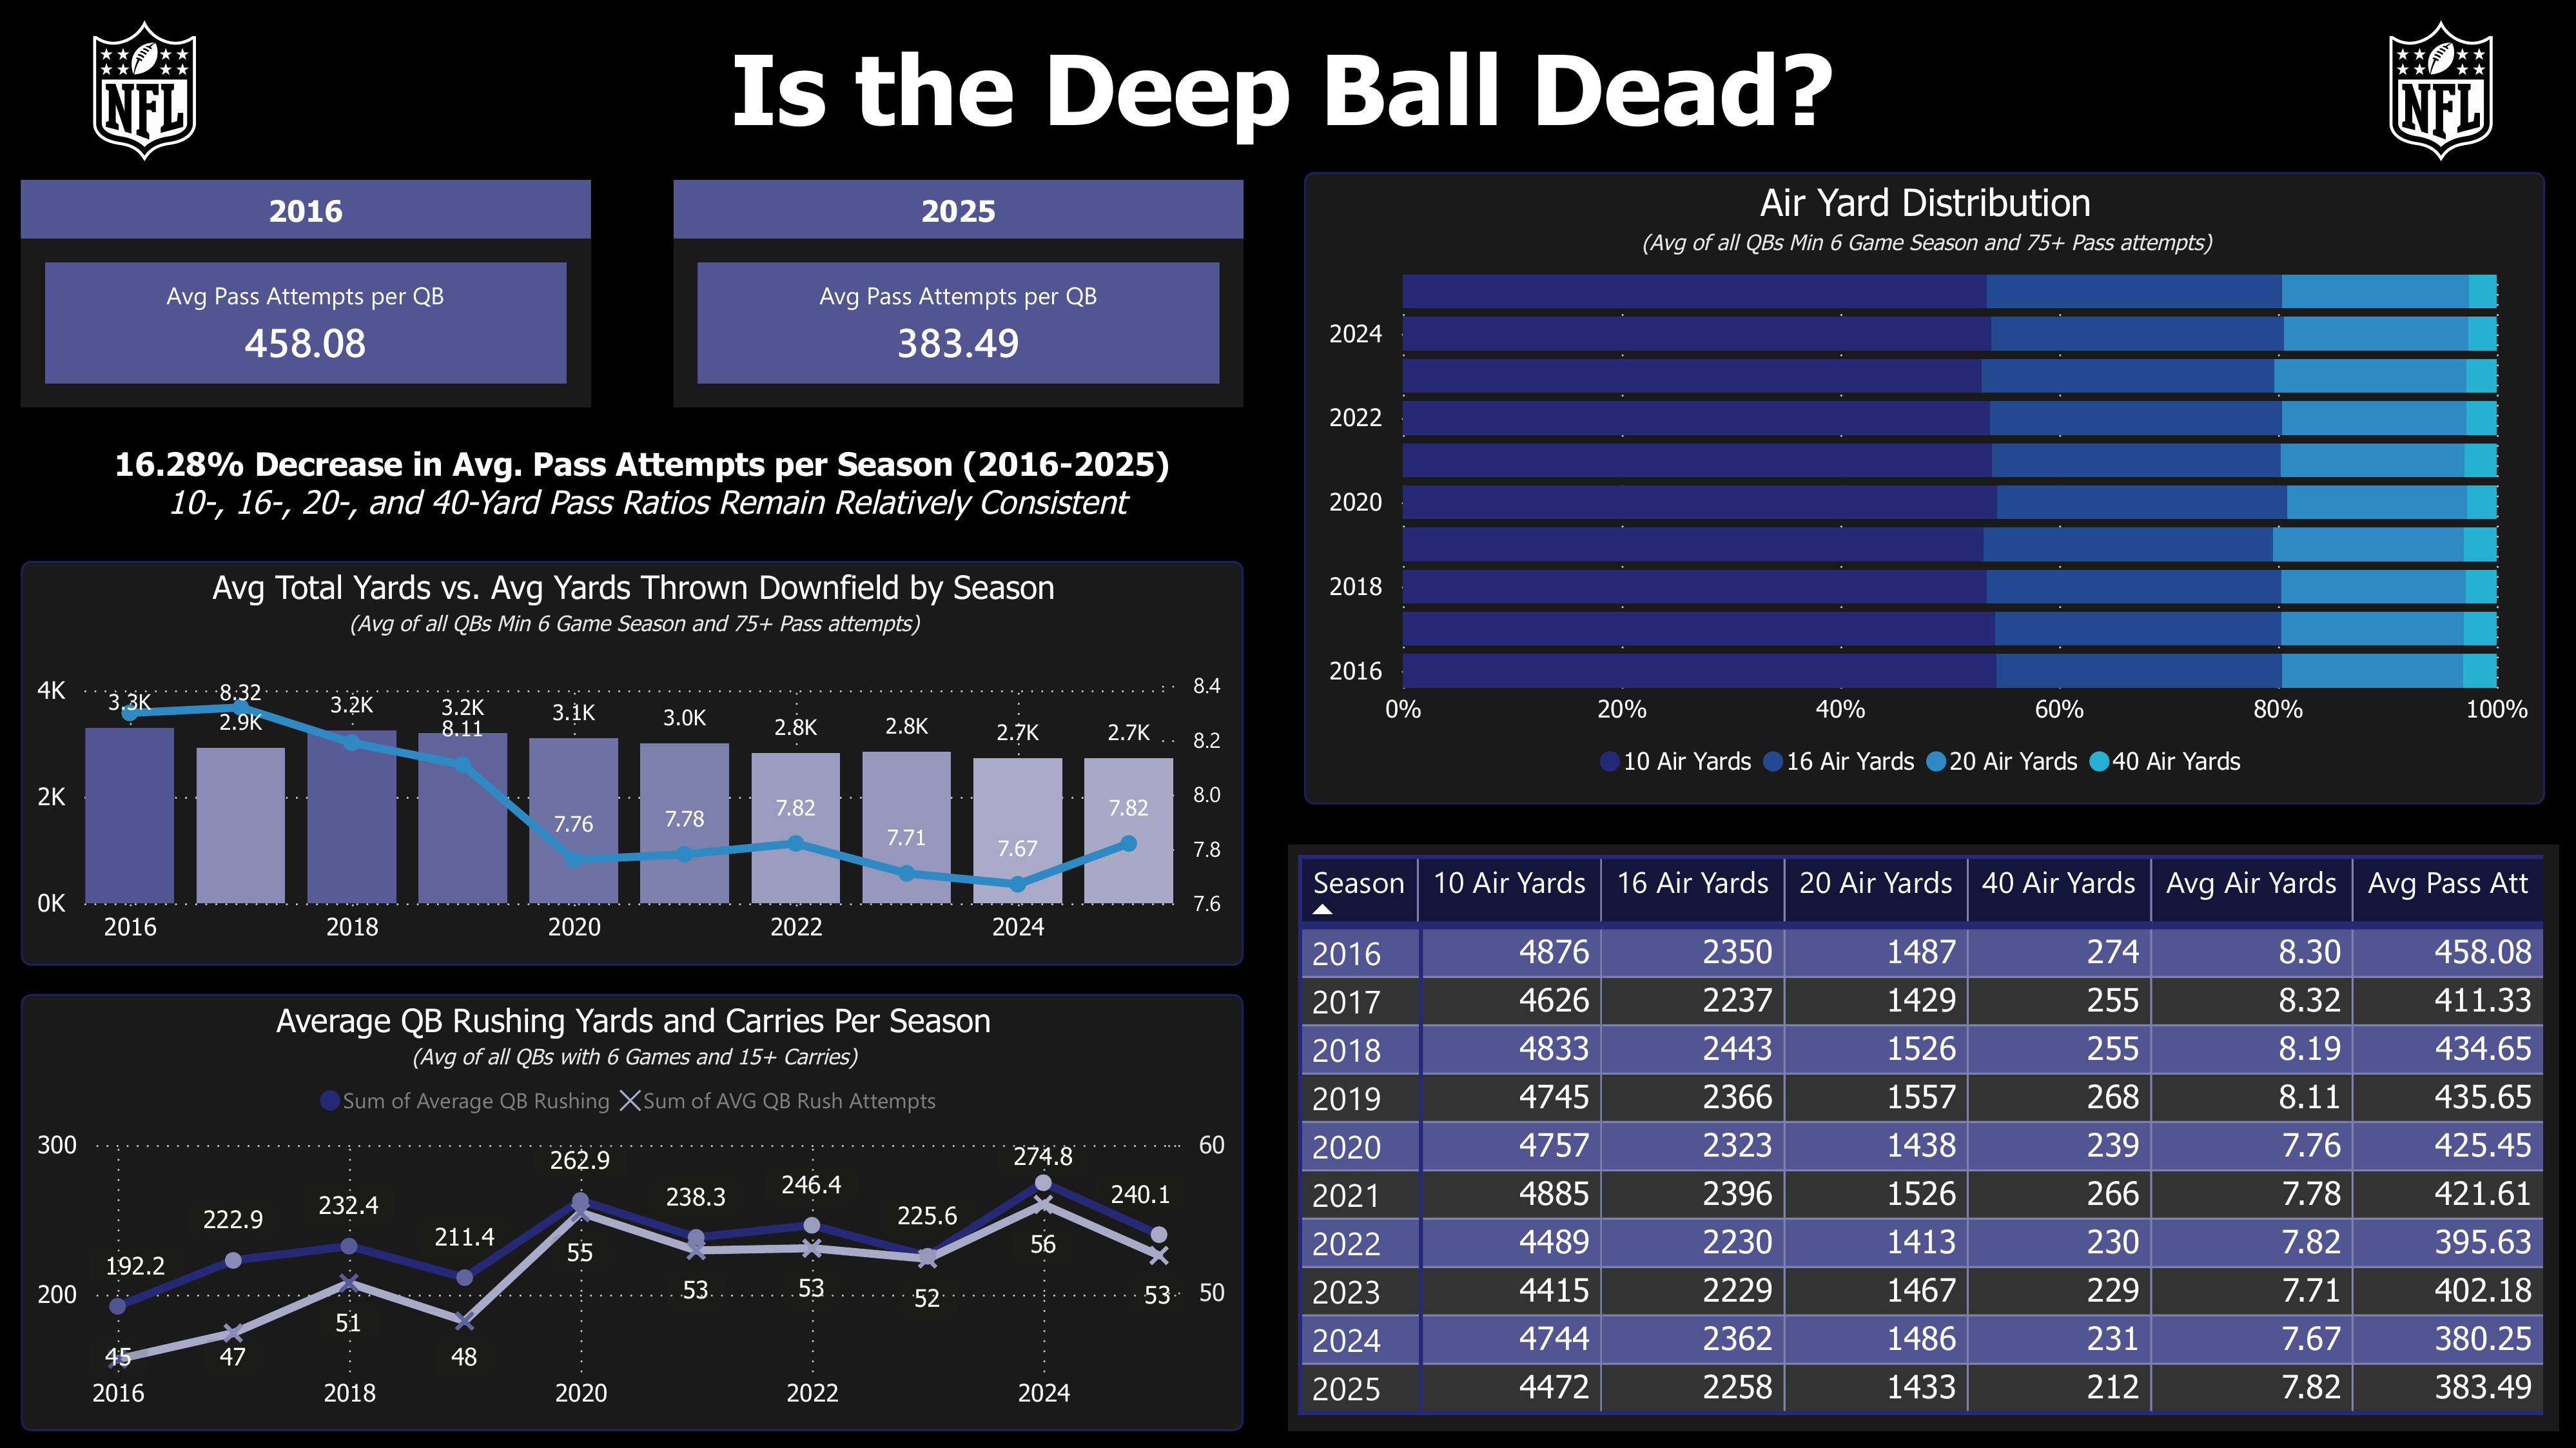

The dashboard page shown, as its layout file describes it:
{"tool":"powerbi","page":{"name":"Game Development","canvas":[1280,720],"ordinal":0},"visuals":[{"type":"lineClusteredColumnComboChart","title":"Avg Total Yards vs. Avg Yards Thrown Downfield by Season","fields":{"Y":["Sum(avg_yards_reg_season.Average Passing Yards)"],"Category":["avg_yds_thrown_downfield_reg.Season"],"Y2":["Sum(avg_yds_thrown_downfield_reg.AVG Yards Thrown Downfield)"]},"box":[11.2,278.8,606.2,201.2],"z":0},{"type":"lineChart","title":"Average QB Rushing Yards and Carries Per Season","fields":{"Y":["Sum(avg_qb_rush_reg_yards_season.Average QB Rushing)"],"Category":["avg_qb_rush_reg_yards_season.Season"],"Y2":["Sum(avg_qb_rush_reg_yards_season.AVG QB Rush Attempts)"]},"box":[11.2,493.8,606.2,217.5],"z":1000},{"type":"pivotTable","fields":{"Rows":["avg_yds_thrown_downfield_reg.Season"],"Values":["Sum(avg_yds_thrown_downfield_reg.Passes 10 Yards Downfeild)","Sum(avg_yds_thrown_downfield_reg.Passes 16 Yards Downfeild)","Sum(avg_yds_thrown_downfield_reg.Passes 20 Yards Downfeild)","Sum(avg_yds_thrown_downfield_reg.Passes 40 Yards Downfeild)","Sum(avg_yds_thrown_downfield_reg.AVG Yards Thrown Downfield)","Sum(avg_yds_thrown_downfield_reg.AVG Pass Attempts)"]},"box":[640,420,631.2,291.2],"z":2000},{"type":"cardVisual","fields":{"Rows":["avg_yds_thrown_downfield_reg.Season"],"Data":["Avg(avg_yds_thrown_downfield_reg.AVG Pass Attempts)"]},"box":[11.2,90,282.5,112.5],"z":3000},{"type":"cardVisual","fields":{"Rows":["avg_yds_thrown_downfield_reg.Season"],"Data":["Avg(avg_yds_thrown_downfield_reg.AVG Pass Attempts)"]},"box":[335,90,282.5,112.5],"z":4000},{"type":"textbox","box":[11.2,10,1252.5,76.2],"z":5000},{"type":"hundredPercentStackedBarChart","title":"Air Yard Distribution","fields":{"Category":["avg_yds_thrown_downfield_reg.Season"],"Y":["Sum(avg_yds_thrown_downfield_reg.Passes 10 Yards Downfeild)","Sum(avg_yds_thrown_downfield_reg.Passes 16 Yards Downfeild)","Sum(avg_yds_thrown_downfield_reg.Passes 20 Yards Downfeild)","Sum(avg_yds_thrown_downfield_reg.Passes 40 Yards Downfeild)"]},"box":[647.5,86.2,616.2,313.8],"z":6000},{"type":"textbox","box":[21.2,216.2,596.2,62.5],"z":7000},{"type":"image","box":[25,8.7,94,73.2],"z":8000},{"type":"image","box":[1165,8.7,94,73.2],"z":9001}]}

Visuals, with their boxes in screenshot pixels (x1, y1, x2, y2), scaled from the page's 1280x720 canvas onto the 2576x1448 screenshot:
"Avg Total Yards vs. Avg Yards Thrown Downfield by Season" lineClusteredColumnComboChart: {"left": 23, "top": 561, "right": 1242, "bottom": 965}
"Average QB Rushing Yards and Carries Per Season" lineChart: {"left": 23, "top": 993, "right": 1242, "bottom": 1431}
pivotTable - avg_yds_thrown_downfield_reg.Season x Sum(avg_yds_thrown_downfield_reg.Passes 10 Yards Downfeild): {"left": 1288, "top": 845, "right": 2559, "bottom": 1431}
cardVisual - avg_yds_thrown_downfield_reg.Season x Avg(avg_yds_thrown_downfield_reg.AVG Pass Attempts): {"left": 23, "top": 181, "right": 591, "bottom": 407}
cardVisual - avg_yds_thrown_downfield_reg.Season x Avg(avg_yds_thrown_downfield_reg.AVG Pass Attempts): {"left": 674, "top": 181, "right": 1243, "bottom": 407}
textbox: {"left": 23, "top": 20, "right": 2543, "bottom": 173}
"Air Yard Distribution" hundredPercentStackedBarChart: {"left": 1303, "top": 173, "right": 2543, "bottom": 805}
textbox: {"left": 43, "top": 435, "right": 1242, "bottom": 560}
image: {"left": 50, "top": 17, "right": 240, "bottom": 164}
image: {"left": 2345, "top": 17, "right": 2533, "bottom": 164}
